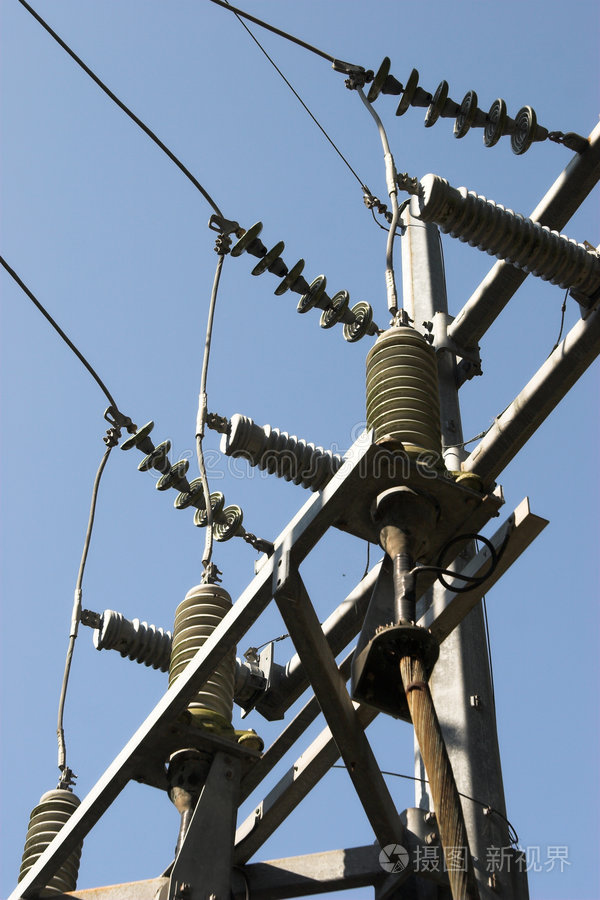insulator: (227, 214, 370, 342), (361, 53, 537, 156), (436, 186, 593, 296), (120, 418, 247, 542), (361, 328, 437, 454), (172, 591, 241, 727), (19, 795, 85, 900), (119, 617, 171, 673)
